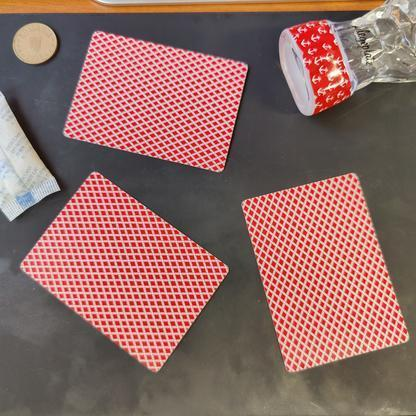card: (14, 166, 240, 393), (237, 165, 413, 376), (57, 22, 259, 181)
